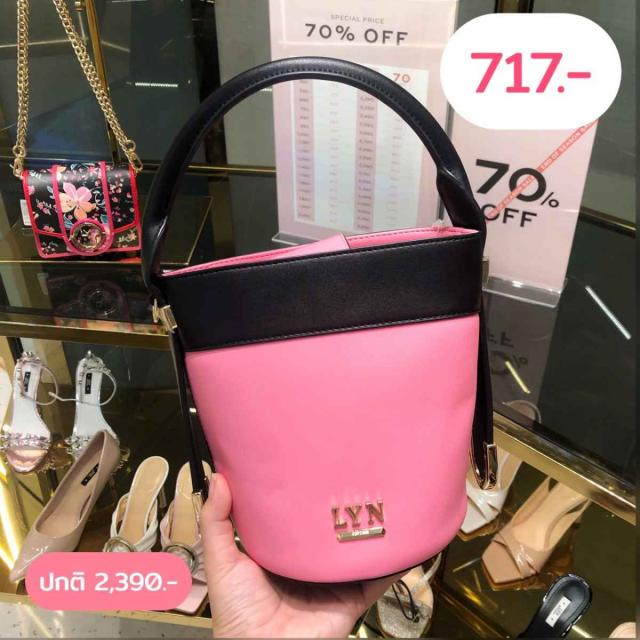Handbag: (158, 202, 510, 596)
